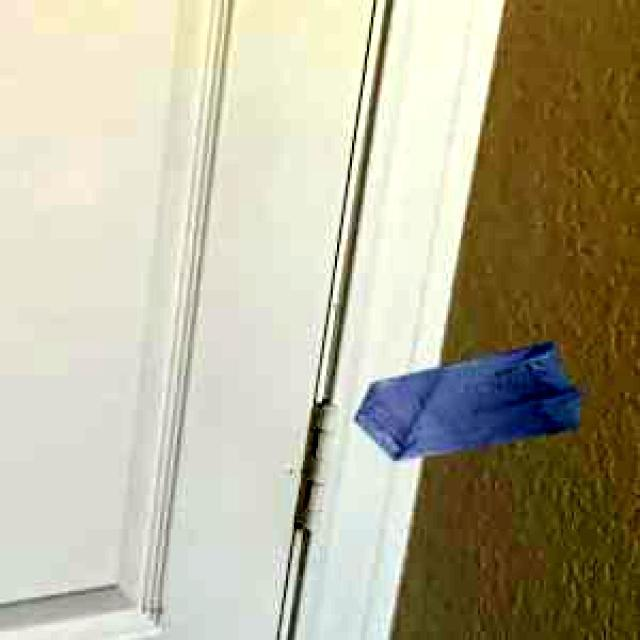Plastic_Bag: (350, 338, 582, 458)
